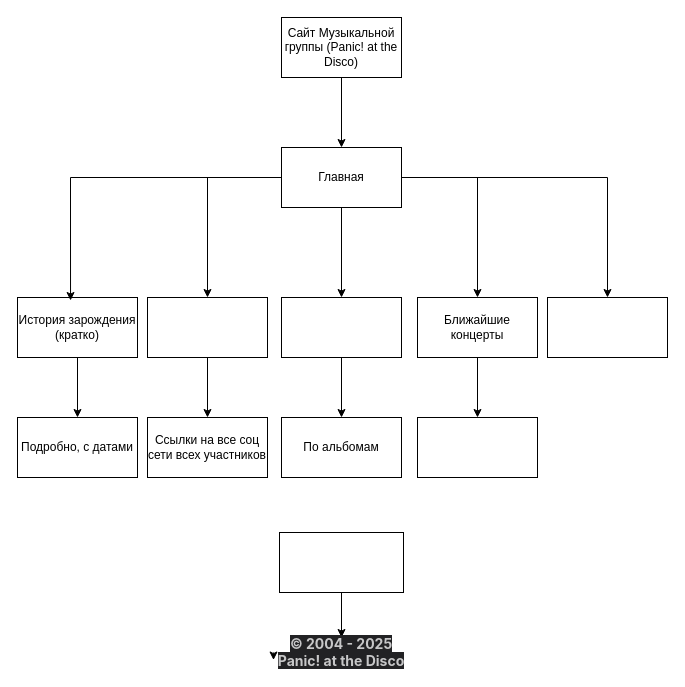
This 685x687 diagram has some shape labels left out. The shapes that lost their labels are listed below. From the top down, each one's centre as x and y in pixels, then its label:
At point (207, 327): "Участники".
At point (607, 327): "Социальные сети группы".
At point (477, 447): "Более подробно (место, время, где купить билеты)".
At point (341, 562): "Подвал главной страницы".
